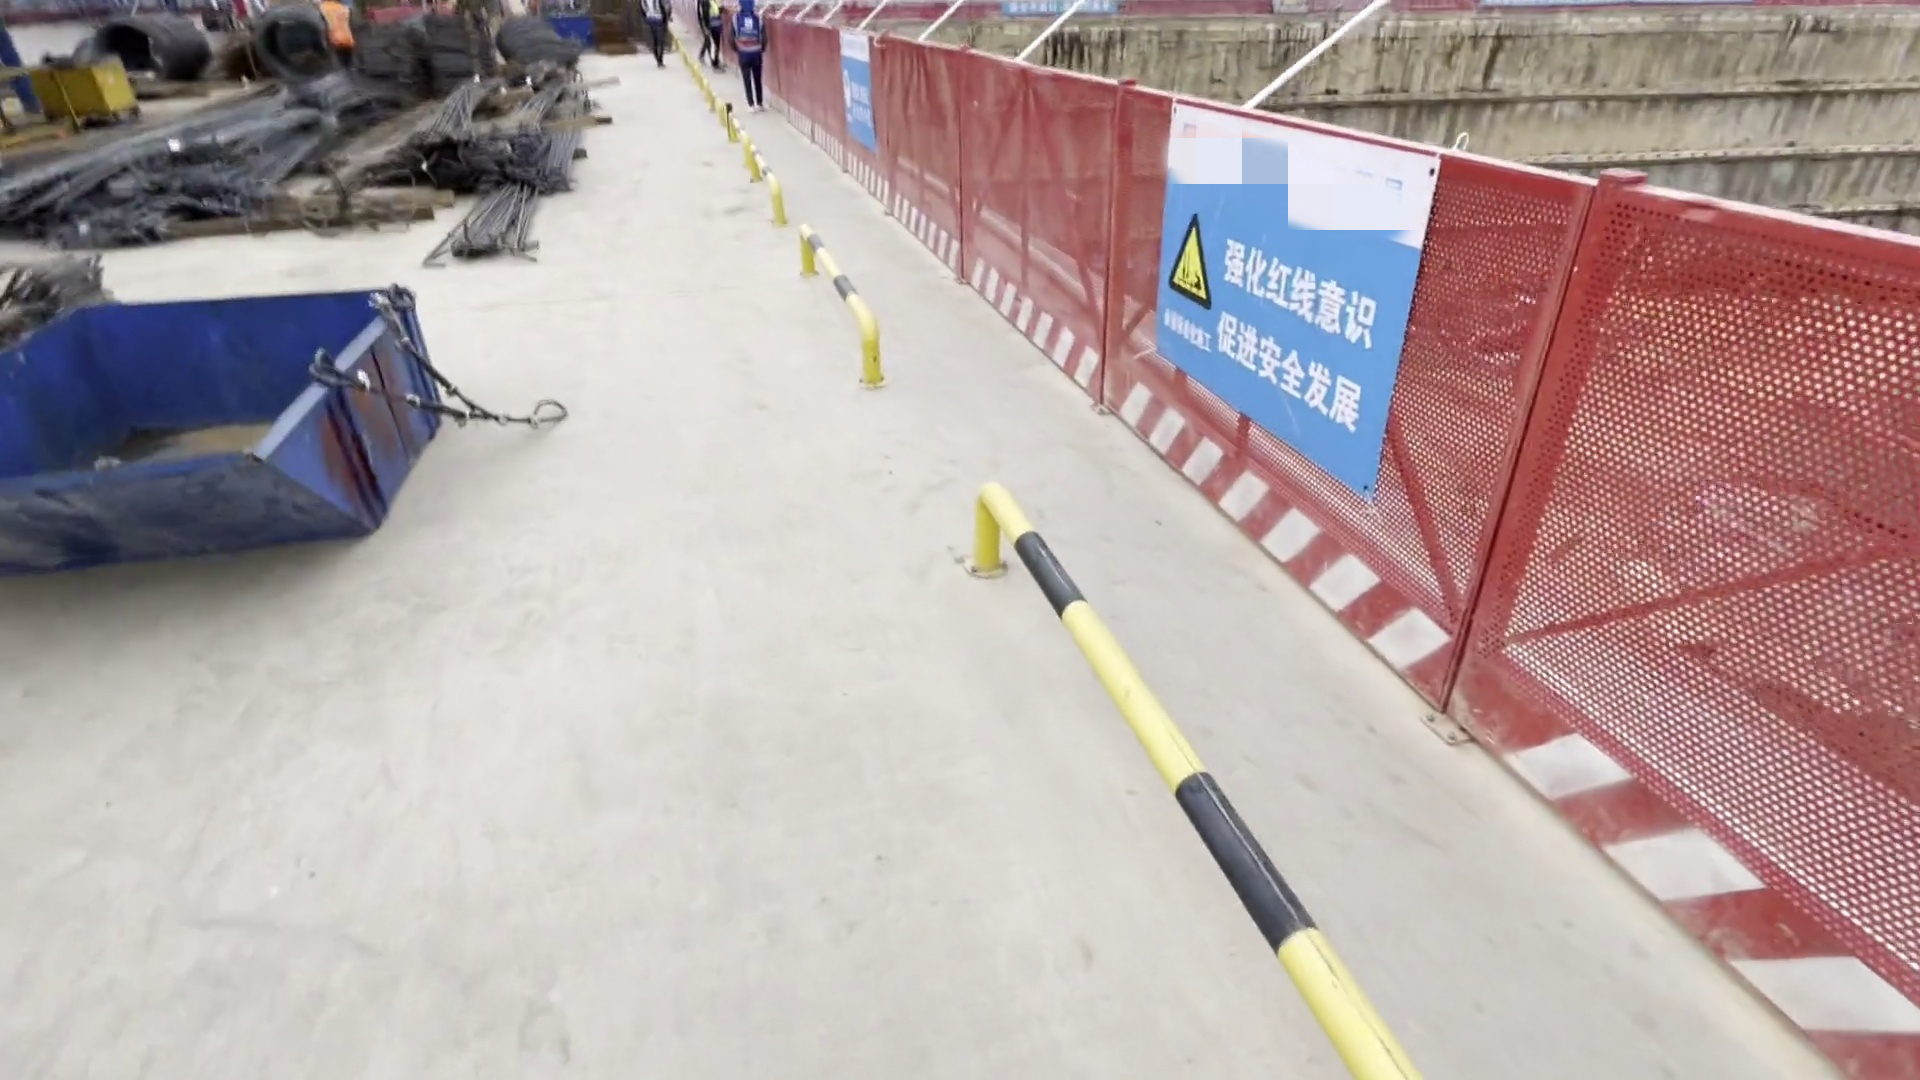fence: (1378, 150, 1920, 1051), (835, 55, 1151, 283)
helmet: (740, 1, 754, 13)
hopper: (1, 278, 451, 587)
person: (735, 1, 775, 116), (700, 1, 728, 76), (642, 1, 670, 68)
rebar: (1, 96, 339, 246), (401, 66, 611, 279)
slogan: (1157, 117, 1382, 450), (830, 33, 883, 147)
vest: (734, 12, 765, 58), (697, 1, 724, 29), (643, 1, 667, 24)
